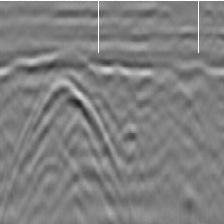Utility: (18, 71, 125, 218)
